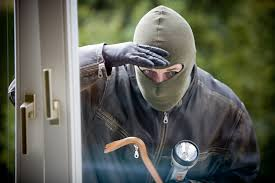crowbar: (103, 135, 165, 183)
